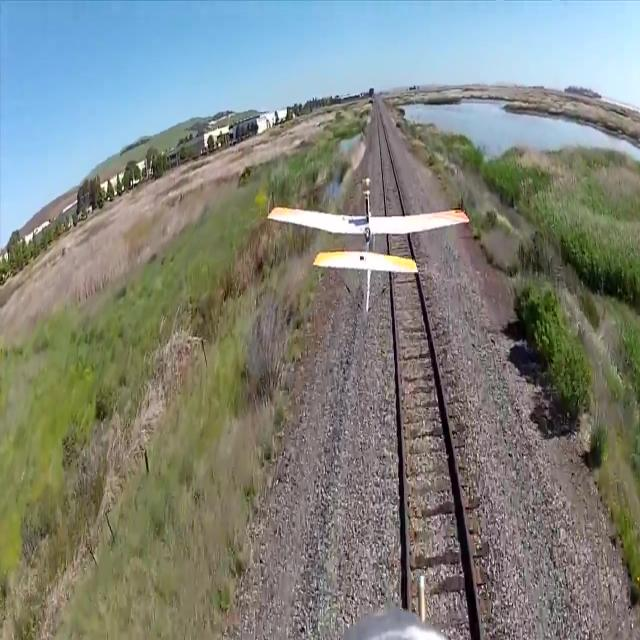iha: (271, 174, 467, 321)
